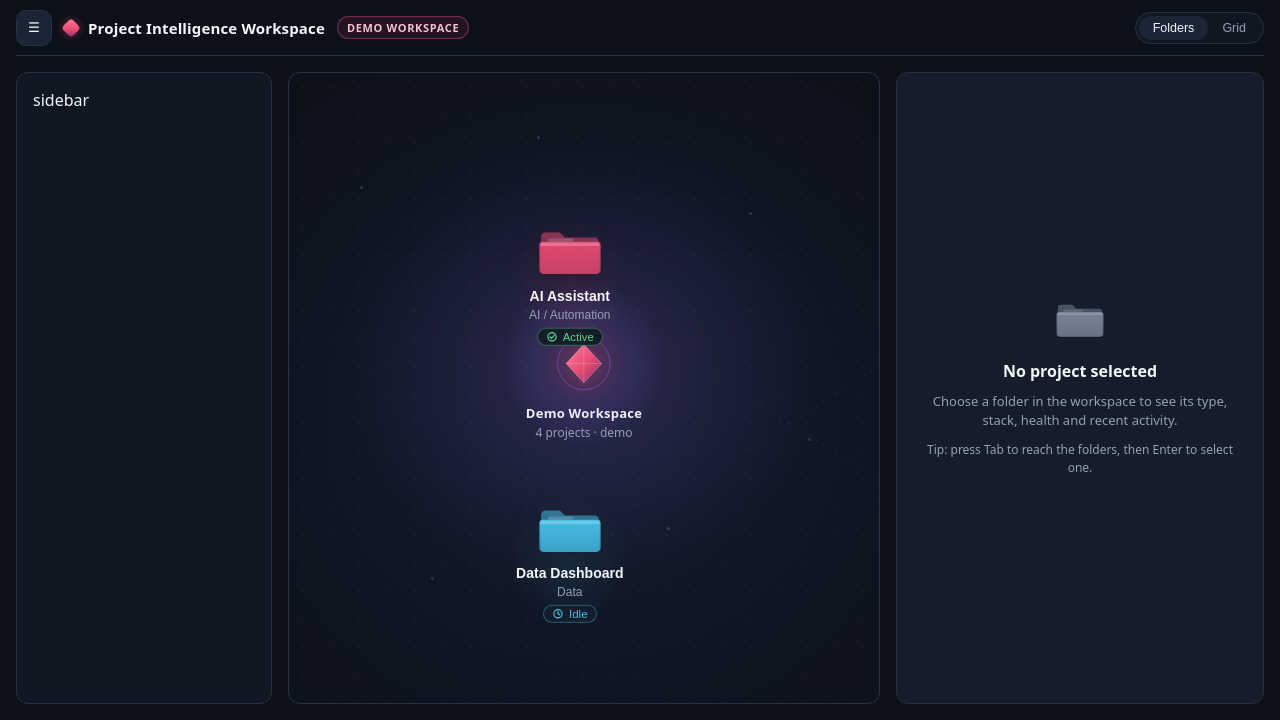
Test: ProjectInspector states › surfaces provider failures as the error state
Step 1. Click the button with aria-label "AI Assistant," → click(570, 284), box x1=482 y1=210 x2=658 y2=359
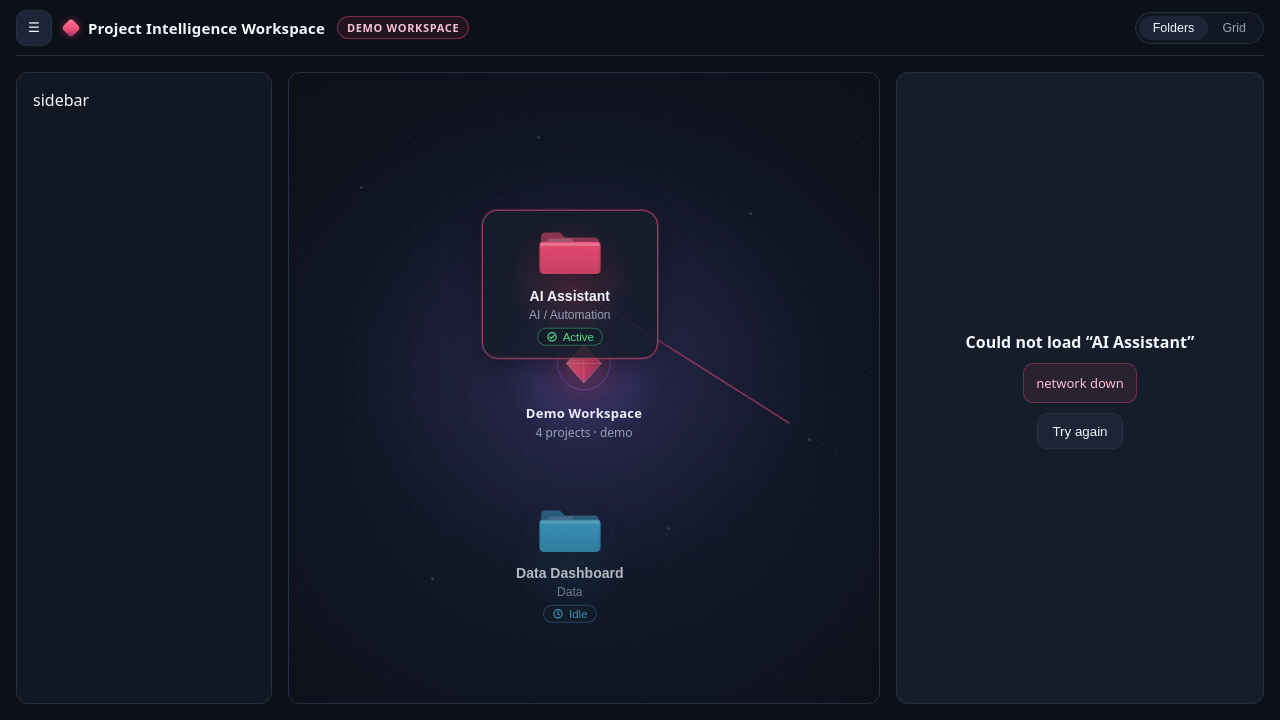
Expected: the message shows "network down", x1=1036 y1=374 x2=1124 y2=392
